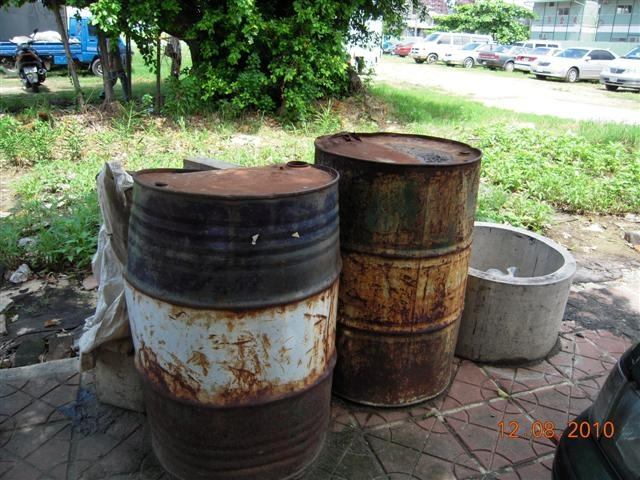bowl: (454, 219, 576, 364)
bucket: (126, 160, 344, 479), (312, 130, 482, 408)
plastic_bag: (94, 161, 131, 345)
